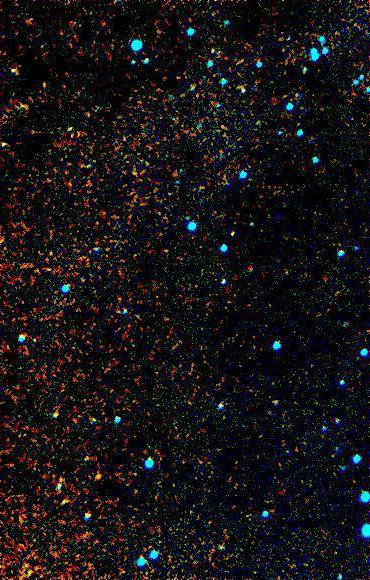star: (83, 461, 113, 491)
